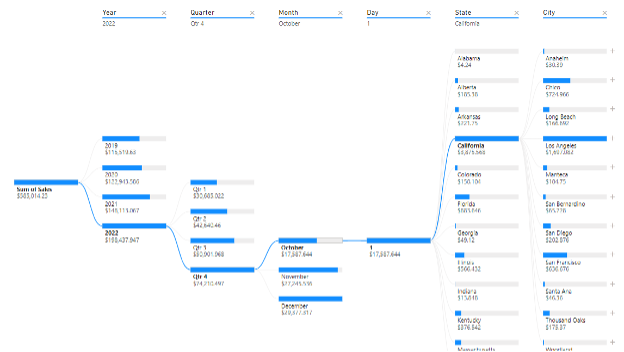

This screenshot's page, from the dashboard's own definition file:
{"tool":"powerbi","page":{"name":"Decomposition Tree","canvas":[1280,720],"ordinal":3},"visuals":[{"type":"decompositionTreeVisual","fields":{"Analyze":["Sum(Whole_Store_data.Sales)"],"ExplainBy":["Whole_Store_data.Month Year.Variation.Date Hierarchy.Year","Whole_Store_data.Month Year.Variation.Date Hierarchy.Quarter","Whole_Store_data.Month Year.Variation.Date Hierarchy.Month","Whole_Store_data.Month Year.Variation.Date Hierarchy.Day","Whole_Store_data.Country Hierarchy.State","Whole_Store_data.Country Hierarchy.City","Whole_Store_data.Country Hierarchy.Country","Whole_Store_data.Country Hierarchy.Postal Code"]},"box":[0,0,1280,720],"z":0}]}

Visuals, with their boxes in screenshot pixels (x1, y1, x2, y2), scaled from the page's 1280x720 canvas onto the 624x352 screenshot:
decompositionTreeVisual - Sum(Whole_Store_data.Sales) x Whole_Store_data.Month Year.Variation.Date Hierarchy.Year: {"x1": 0, "y1": 0, "x2": 623, "y2": 351}
